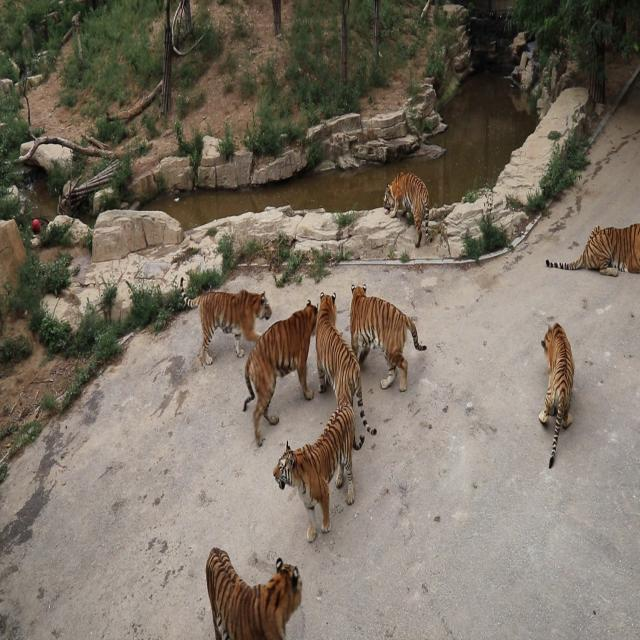Tiger: (200, 514, 312, 640), (272, 400, 364, 543), (242, 297, 320, 432), (346, 273, 429, 389), (316, 287, 377, 437), (175, 268, 268, 354), (379, 158, 440, 253), (546, 219, 639, 281), (540, 321, 576, 469)
